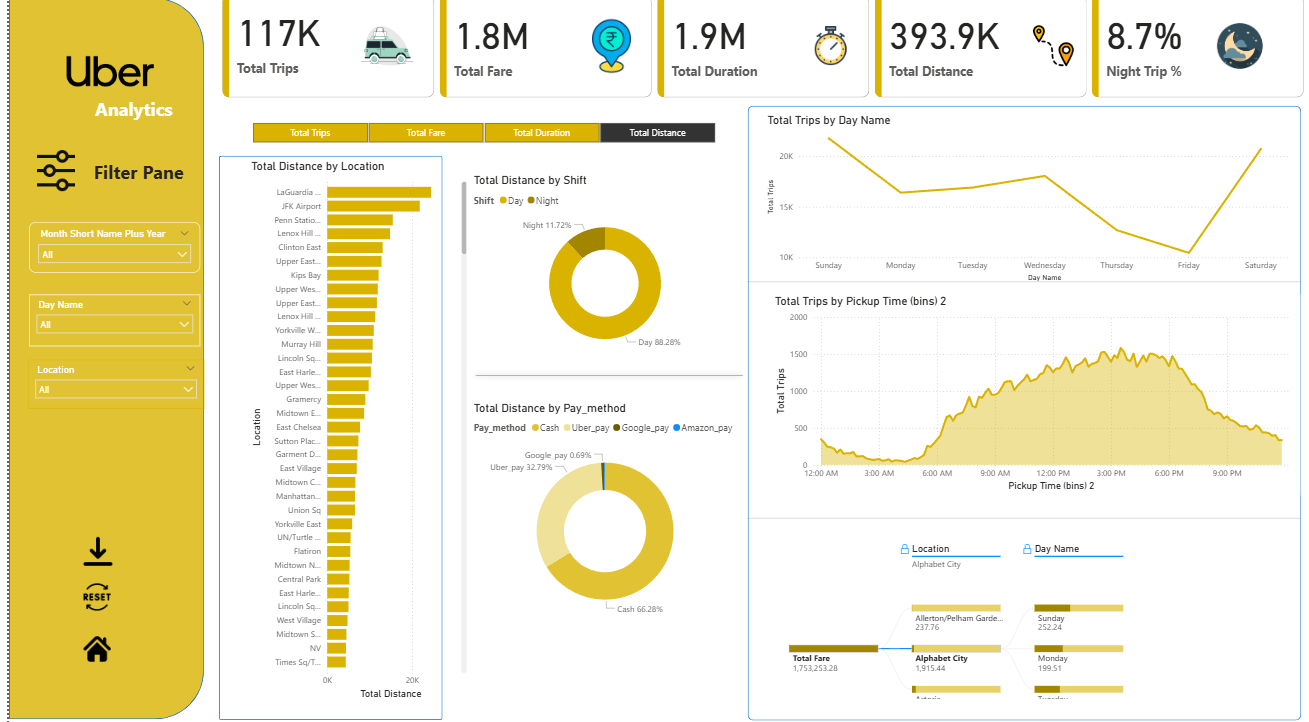

Layout of this report page (visuals, bound fields, positions):
{"tool":"powerbi","page":{"name":"Page 1","canvas":[1920,1080],"ordinal":0},"visuals":[{"type":"shape","box":[0,10,286,1058],"z":0},{"type":"image","box":[16.5,47.3,263.5,137.9],"z":1000},{"type":"textbox","box":[121.4,148.2,140,72],"z":2000},{"type":"image","box":[16.5,220.2,105,84.4],"z":3000},{"type":"textbox","box":[119.4,240.8,160.5,45.3],"z":4000},{"type":"slicer","fields":{"Values":["DateTable.Day Name"]},"box":[28.8,443.8,251.2,76.2],"z":5000},{"type":"slicer","fields":{"Values":["Location.Location"]},"box":[27.8,538.9,258.9,72.2],"z":6000},{"type":"slicer","fields":{"Values":["DateTable.Month Short Name Plus Year"]},"box":[28.9,336.7,251.1,74.4],"z":7000},{"type":"cardVisual","fields":{"Data":["TripDetails.Total Trips","TripDetails.Total Fare","TripDetails.Total Duration","TripDetails.Total Distance","TripDetails.Night Shift %"]},"box":[308.3,0,1598.3,160],"z":8000},{"type":"clusteredBarChart","fields":{"Y":["TripDetails.Total Distance"],"Category":["Location.Location"]},"box":[350,246.7,326.7,796.7],"z":9000},{"type":"slicer","fields":{"Values":["Toggle.Toggle"]},"box":[332,186,728,42],"z":10000},{"type":"donutChart","fields":{"Y":["TripDetails.Total Distance"],"Category":["TripDetails.Pay_method"]},"box":[676,600,396,334],"z":11000},{"type":"donutChart","fields":{"Y":["TripDetails.Total Distance"],"Category":["TripDetails.Shift"]},"box":[676,266,396,274],"z":12000},{"type":"shape","box":[308,240,328,828],"z":13000},{"type":"shape","box":[1084,166,812,902],"z":14000},{"type":"decompositionTreeVisual","fields":{"Analyze":["TripDetails.Total Fare"],"ExplainBy":["Location.Location","DateTable.Day Name"]},"box":[1116,792,778,250],"z":15000},{"type":"areaChart","fields":{"Y":["TripDetails.Total Trips"],"Category":["TripDetails.Pickup Time (bins) 2"]},"box":[1118,444,776,294],"z":16000},{"type":"lineChart","fields":{"Y":["TripDetails.Total Trips"],"Category":["DateTable.Day Name"]},"box":[1108.3,178.3,776.7,251.7],"z":17000},{"type":"shape","box":[1084,276,812,300],"z":18000},{"type":"shape","box":[1084,550,810,444],"z":19000},{"type":"shape","box":[676,412,408,300],"z":20000},{"type":"image","box":[104,934,50,60],"z":21000},{"type":"image","box":[104,856,50,62],"z":22000},{"type":"image","box":[104,792,52,56],"z":23000}]}

Visuals, with their boxes in screenshot pixels (x1, y1, x2, y2), scaled from the page's 1920x1080 canvas onto the 1309x722 screenshot:
shape: pyautogui.locateOnScreen(0, 7, 195, 714)
image: pyautogui.locateOnScreen(11, 32, 191, 124)
textbox: pyautogui.locateOnScreen(83, 99, 178, 147)
image: pyautogui.locateOnScreen(11, 147, 83, 204)
textbox: pyautogui.locateOnScreen(81, 161, 191, 191)
slicer - DateTable.Day Name: pyautogui.locateOnScreen(20, 297, 191, 348)
slicer - Location.Location: pyautogui.locateOnScreen(19, 360, 195, 409)
slicer - DateTable.Month Short Name Plus Year: pyautogui.locateOnScreen(20, 225, 191, 275)
cardVisual - TripDetails.Total Trips x TripDetails.Total Fare: pyautogui.locateOnScreen(210, 0, 1300, 107)
clusteredBarChart - TripDetails.Total Distance x Location.Location: pyautogui.locateOnScreen(239, 165, 461, 698)
slicer - Toggle.Toggle: pyautogui.locateOnScreen(226, 124, 723, 152)
donutChart - TripDetails.Total Distance x TripDetails.Pay_method: pyautogui.locateOnScreen(461, 401, 731, 624)
donutChart - TripDetails.Total Distance x TripDetails.Shift: pyautogui.locateOnScreen(461, 178, 731, 361)
shape: pyautogui.locateOnScreen(210, 160, 434, 714)
shape: pyautogui.locateOnScreen(739, 111, 1293, 714)
decompositionTreeVisual - TripDetails.Total Fare x Location.Location: pyautogui.locateOnScreen(761, 529, 1291, 697)
areaChart - TripDetails.Total Trips x TripDetails.Pickup Time (bins) 2: pyautogui.locateOnScreen(762, 297, 1291, 493)
lineChart - TripDetails.Total Trips x DateTable.Day Name: pyautogui.locateOnScreen(756, 119, 1285, 287)
shape: pyautogui.locateOnScreen(739, 185, 1293, 385)
shape: pyautogui.locateOnScreen(739, 368, 1291, 665)
shape: pyautogui.locateOnScreen(461, 275, 739, 476)
image: pyautogui.locateOnScreen(71, 624, 105, 665)
image: pyautogui.locateOnScreen(71, 572, 105, 614)
image: pyautogui.locateOnScreen(71, 529, 106, 567)
